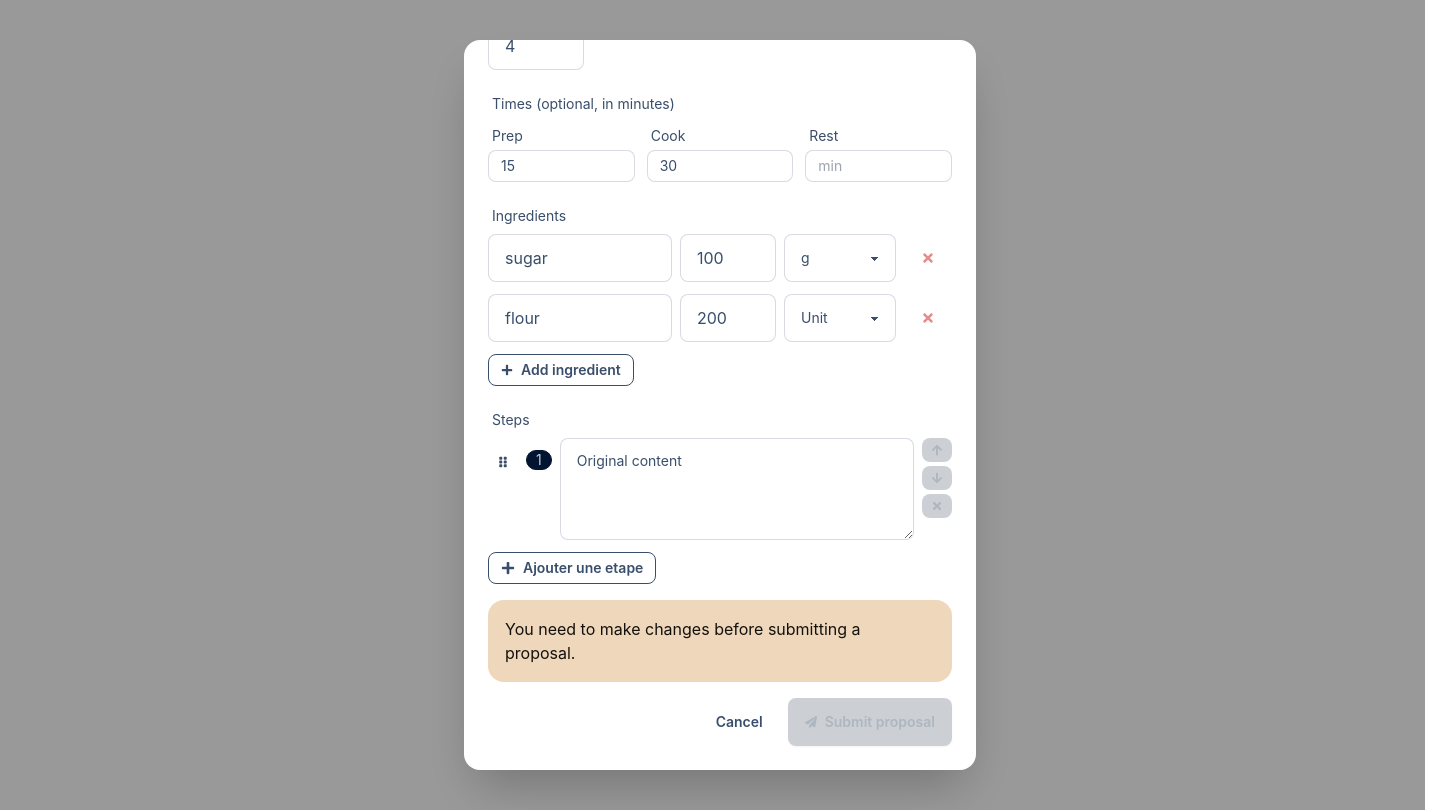
it: ProposeModificationModal › should enable submit when step content is changed
(page scrolled)
Clear the text box showing "Original content". click: [737, 489]
box: [560, 438, 914, 540]
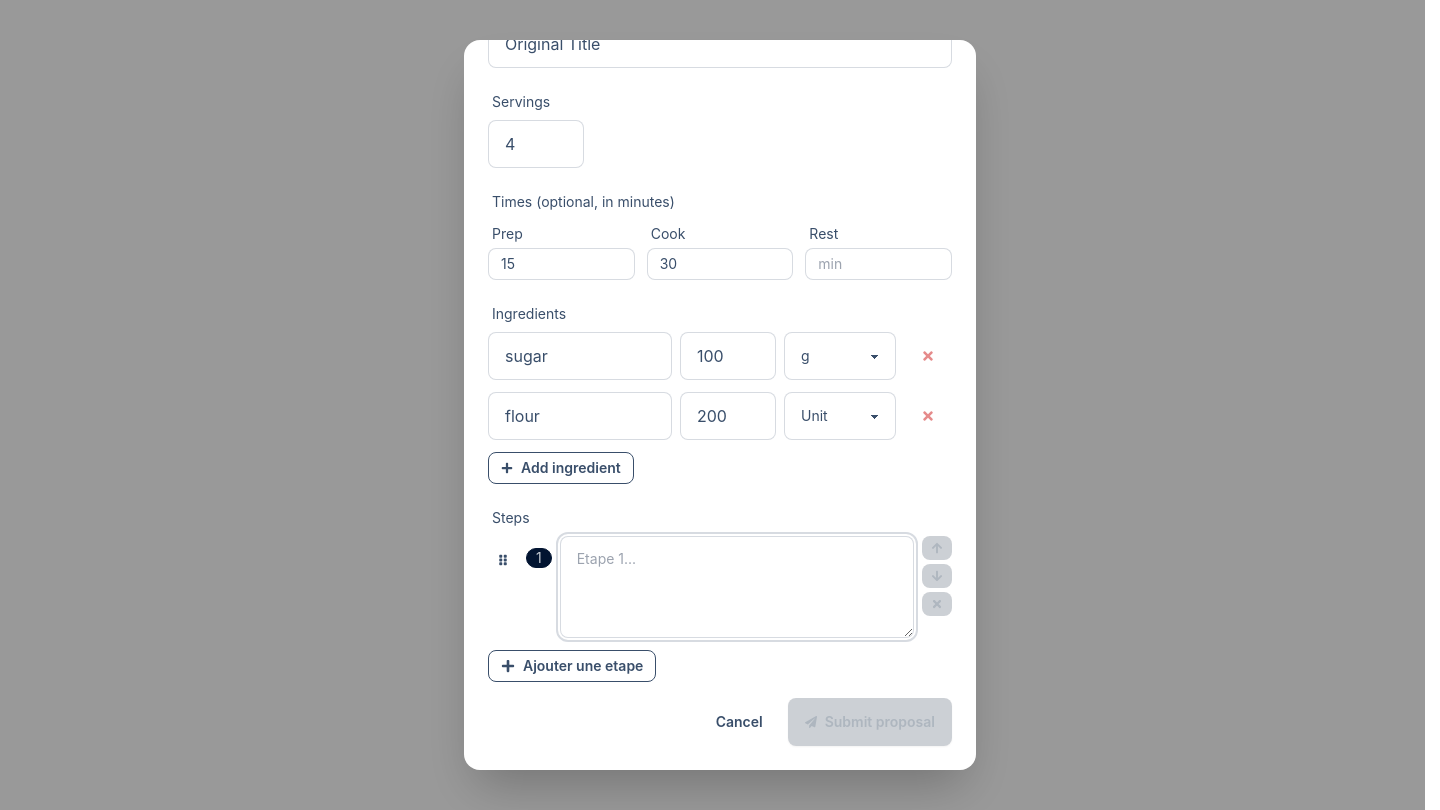
Type "New content" into the text box showing "Original content". click: [737, 587]
box: [560, 536, 914, 638]
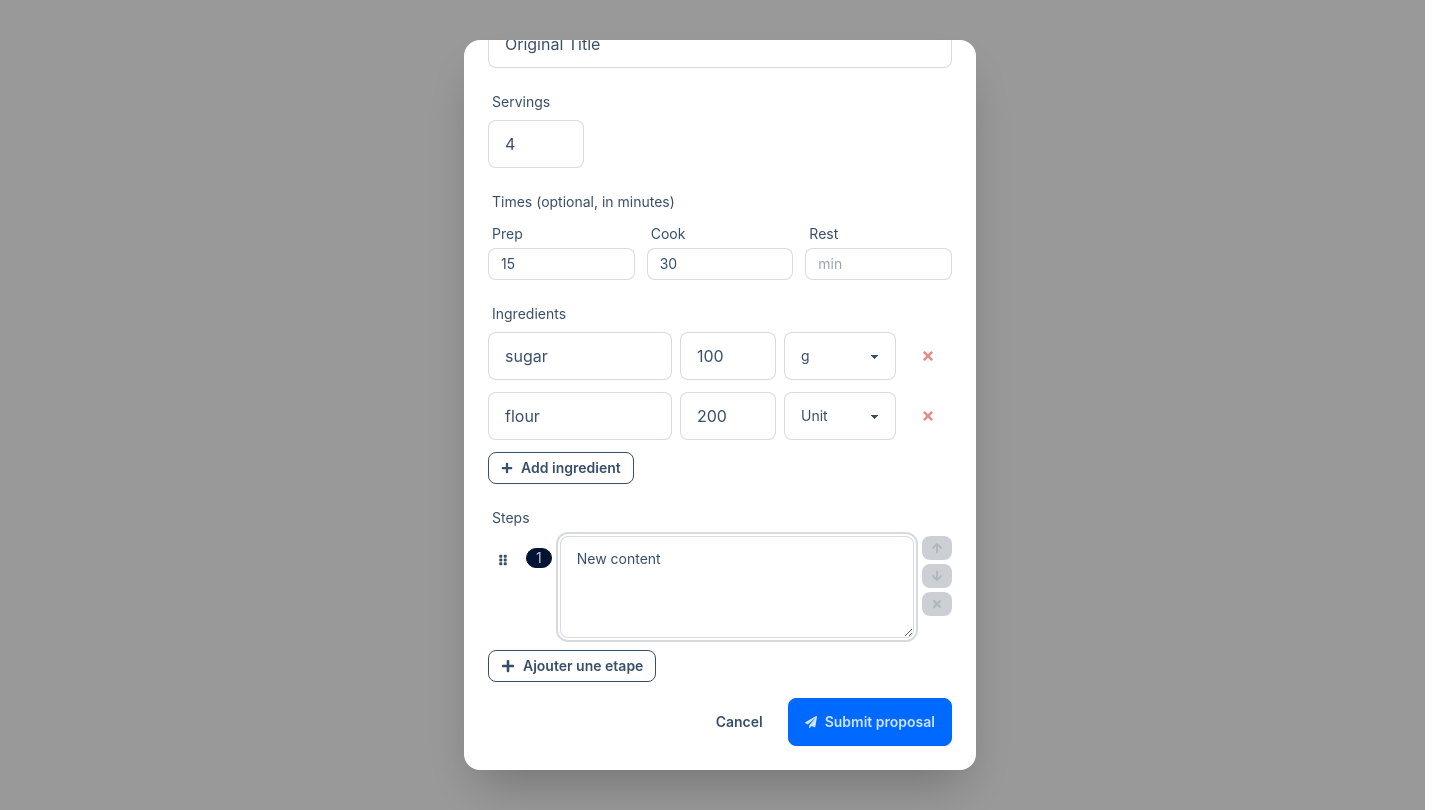
Expected: the button "Submit proposal" is enabled, [788, 698, 952, 746]
